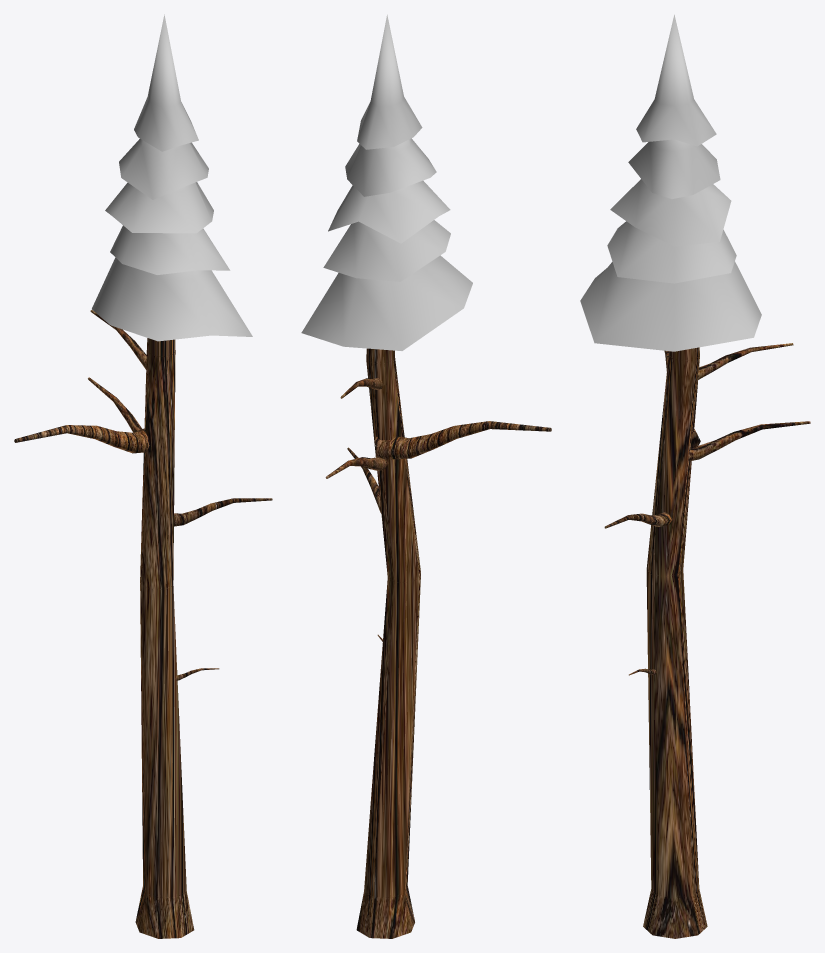
File: ArbolCuatro.fbx
The picture shows the model from 3 angles, left to right: view 1: azimuth 30°, elevation 25°; view 2: azimuth 150°, elevation 25°; view 3: azimuth 270°, elevation 25°; orthographic projection.
Parts seen in each view (by area): view 1: Object045; view 2: Object045; view 3: Object045.
Boxes of the visible parts, bbox=[...] form: Object045: bbox=[14, 14, 272, 938]; Object045: bbox=[301, 14, 551, 938]; Object045: bbox=[580, 14, 810, 938].
Size of the model in its own units: 0.3681 by 1.39 by 0.3188.
